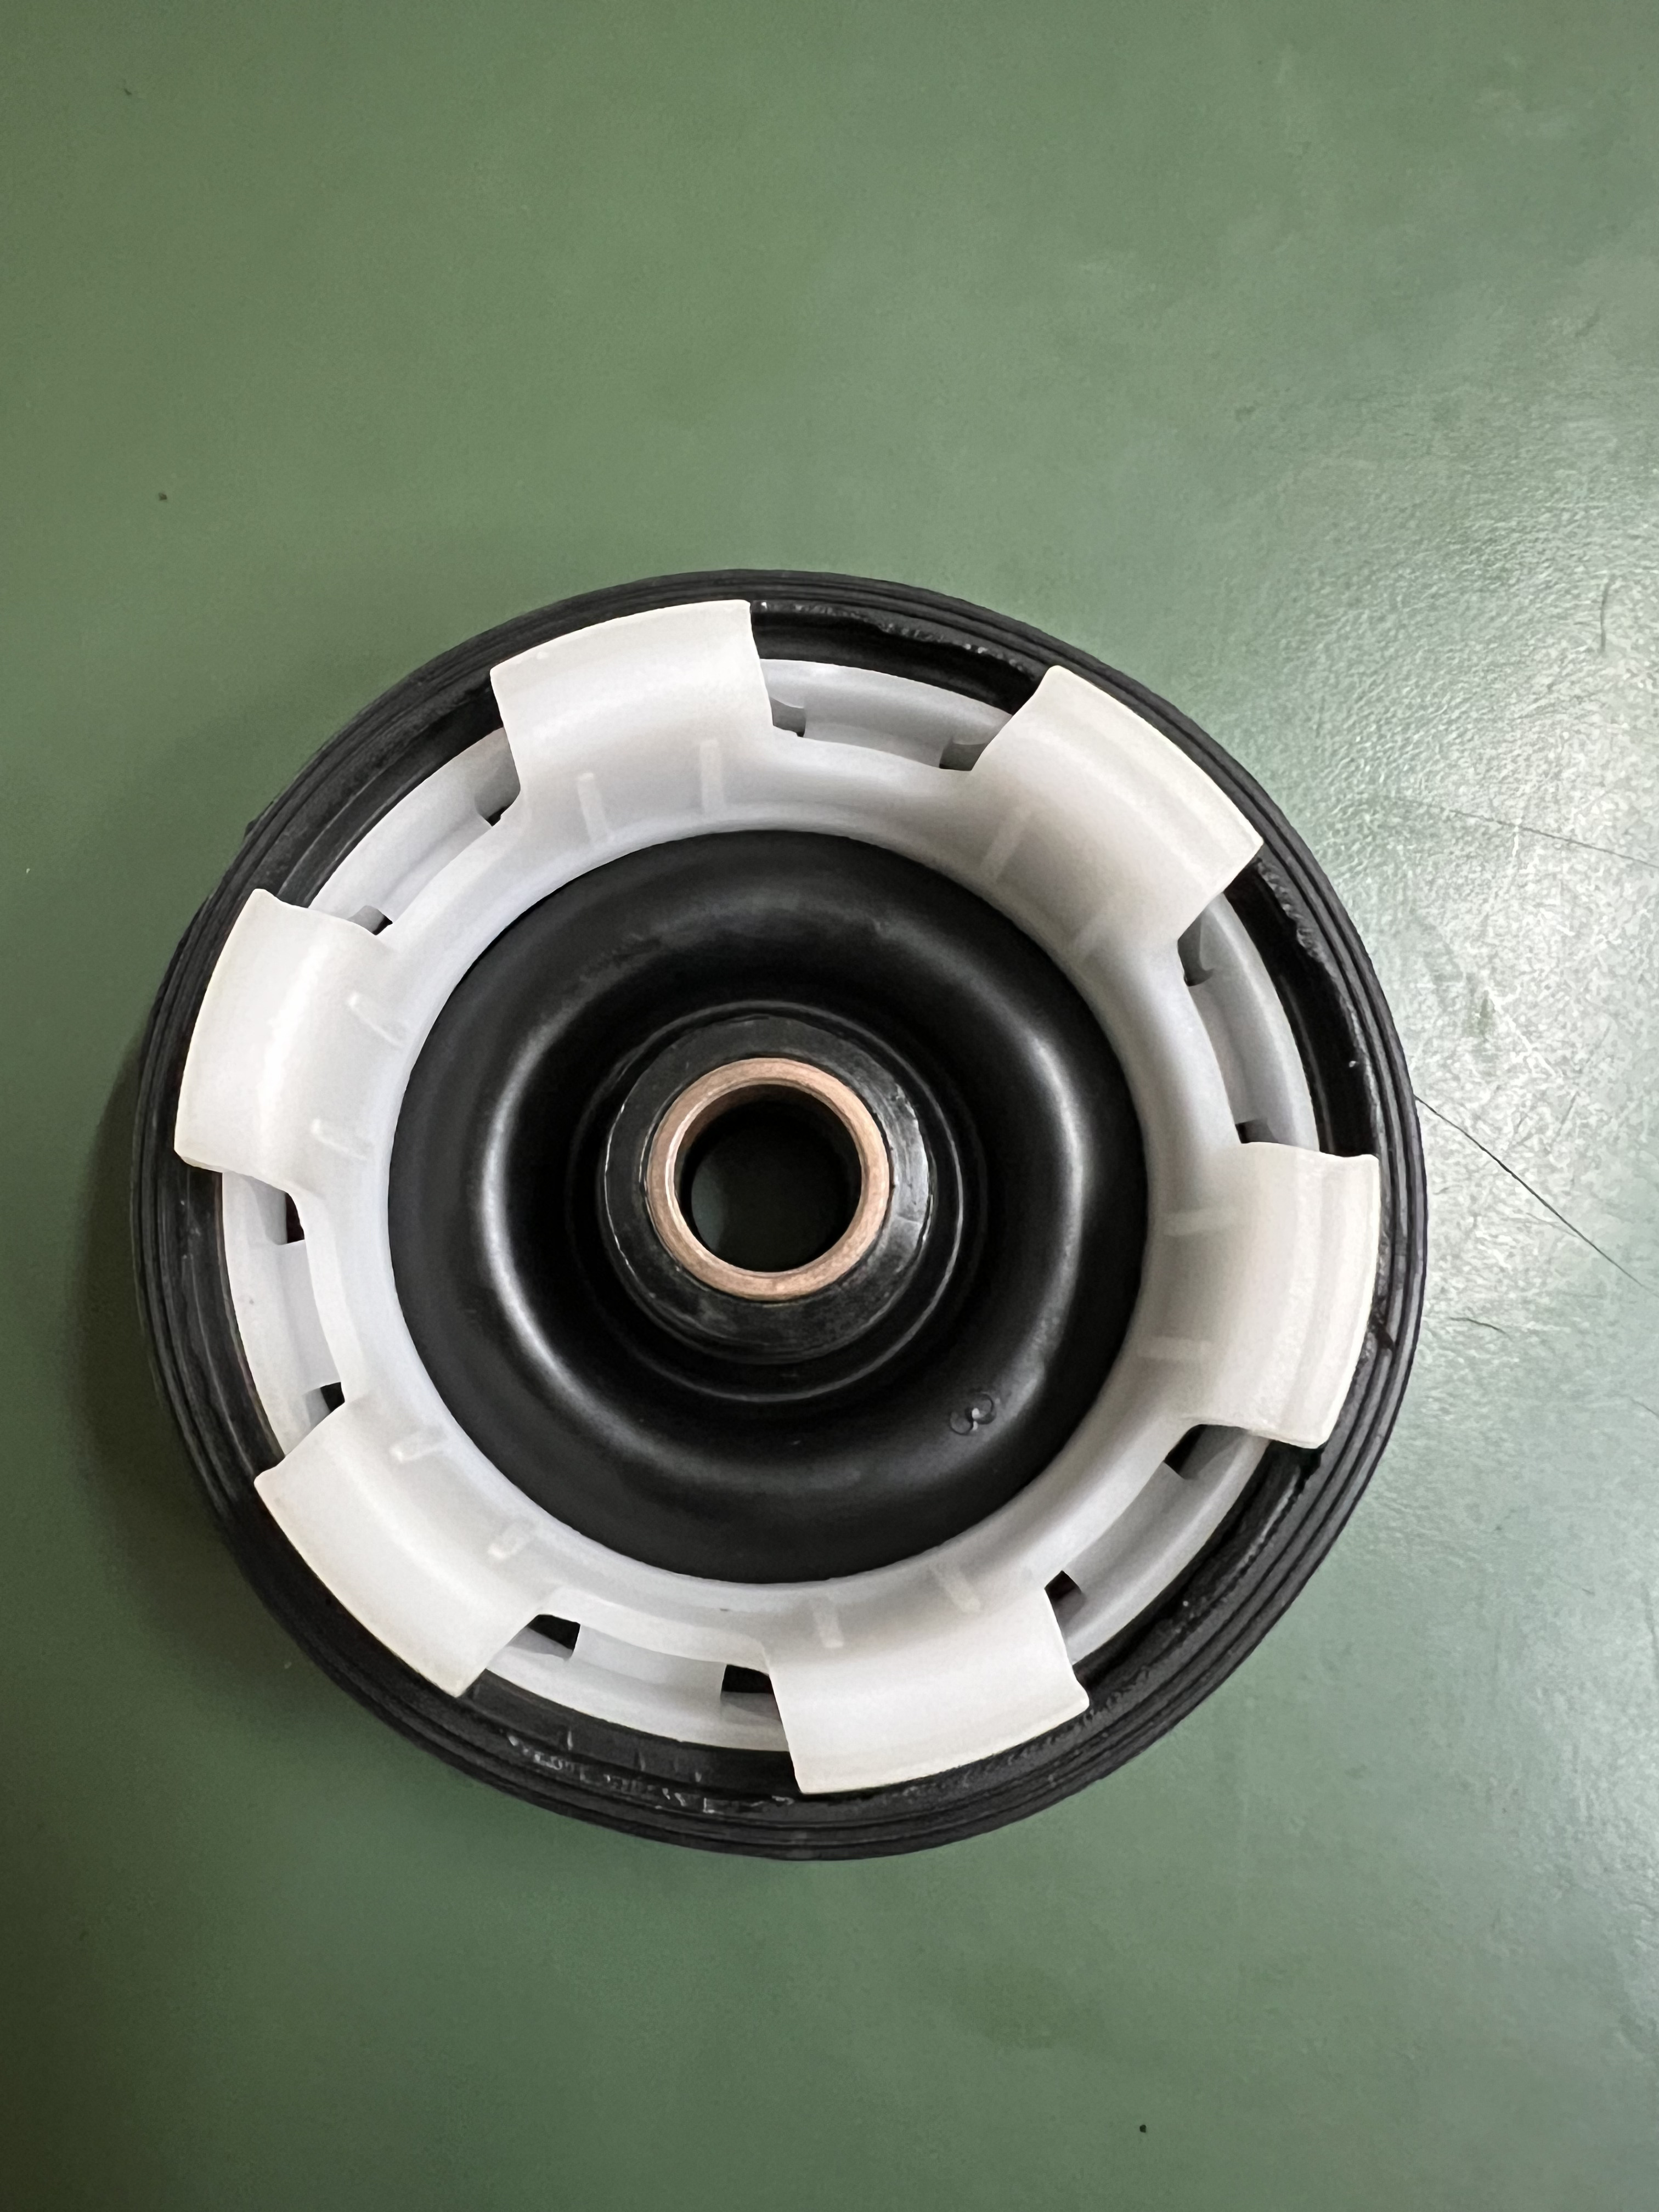lever: (122, 573, 1431, 1860)
